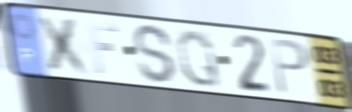2: (231, 33, 273, 95)
F: (85, 19, 121, 76)
P: (267, 36, 312, 98)
Q: (174, 27, 224, 90)
S: (131, 22, 179, 86)
X: (34, 12, 95, 77)
